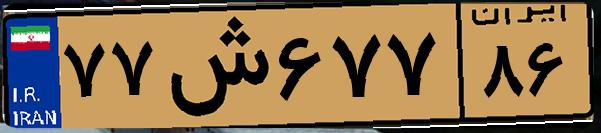6: (270, 28, 330, 110), (525, 38, 570, 115)
7: (385, 28, 445, 110), (330, 28, 385, 110), (57, 26, 110, 100), (110, 28, 158, 98)
8: (475, 38, 525, 113)
ش: (158, 12, 270, 120)
